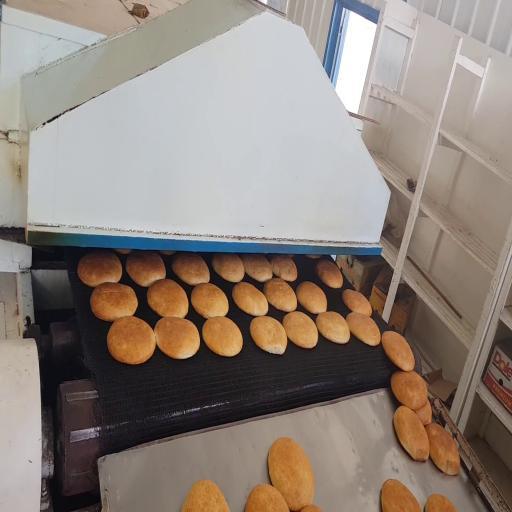bread: (268, 438, 314, 511), (107, 317, 155, 364), (394, 406, 429, 461), (155, 317, 199, 359), (425, 423, 460, 475), (90, 283, 137, 321), (78, 251, 122, 287), (147, 279, 188, 317), (203, 317, 242, 356), (182, 480, 229, 511), (126, 251, 166, 287), (391, 371, 427, 410), (250, 317, 287, 354), (191, 283, 228, 318), (283, 311, 318, 348), (382, 331, 414, 371), (382, 479, 421, 511), (232, 282, 268, 316), (245, 484, 289, 511), (172, 253, 209, 285), (264, 278, 297, 312), (346, 313, 380, 346), (316, 312, 350, 343), (296, 282, 327, 314), (212, 254, 244, 282), (241, 254, 272, 282), (316, 260, 343, 288), (343, 290, 371, 316), (270, 255, 297, 281), (425, 494, 456, 511), (415, 401, 432, 425), (302, 505, 322, 511), (115, 249, 132, 255), (159, 250, 175, 255), (306, 255, 321, 258)
